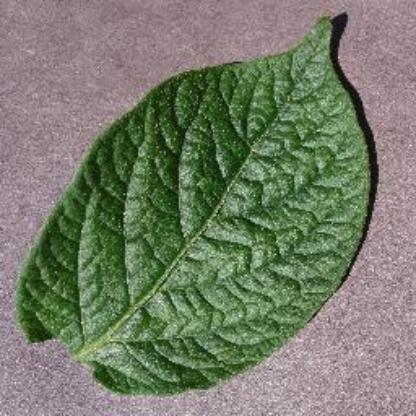Healthy-plant: (14, 15, 376, 400)
